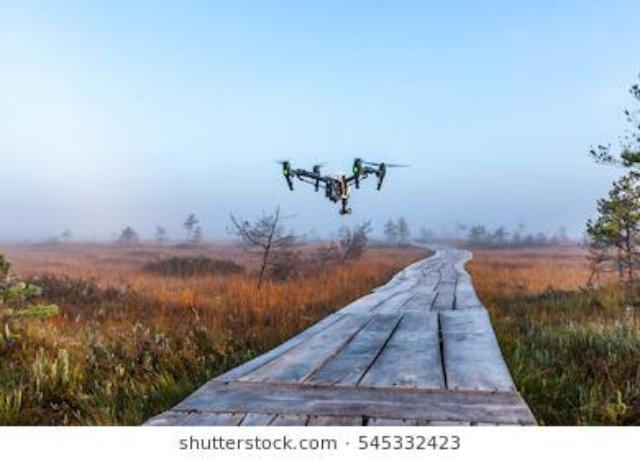drone: (260, 114, 428, 242)
